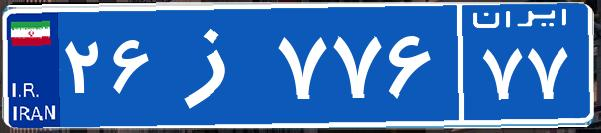2: (57, 26, 110, 107)
6: (385, 28, 445, 110), (110, 28, 158, 105)
7: (273, 28, 330, 110), (330, 28, 385, 110), (475, 38, 525, 113), (525, 38, 570, 115)
ز: (158, 15, 273, 115)
